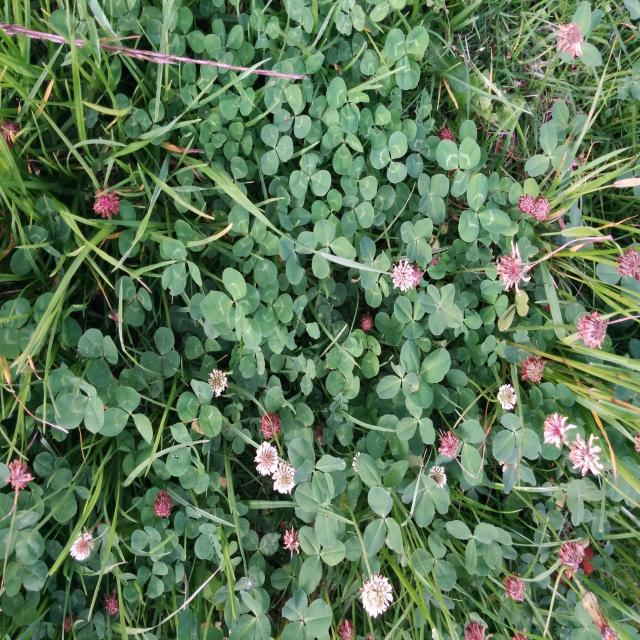Four Leaf Clover: (402, 475, 449, 528), (420, 284, 462, 336), (401, 218, 430, 264), (418, 174, 449, 215)
